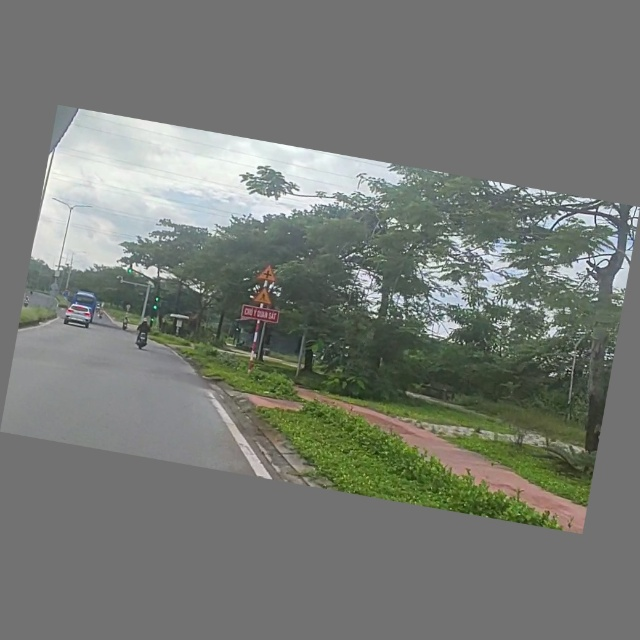W.205a: (255, 263, 279, 283)
W.224: (252, 286, 276, 306)
